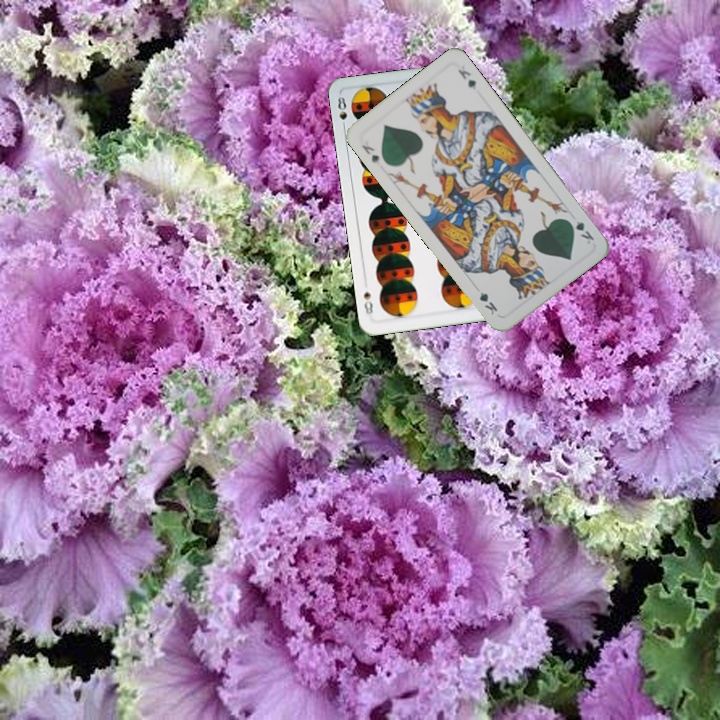GK: (563, 215, 597, 247), (357, 140, 382, 166)
S8: (334, 92, 350, 133)
